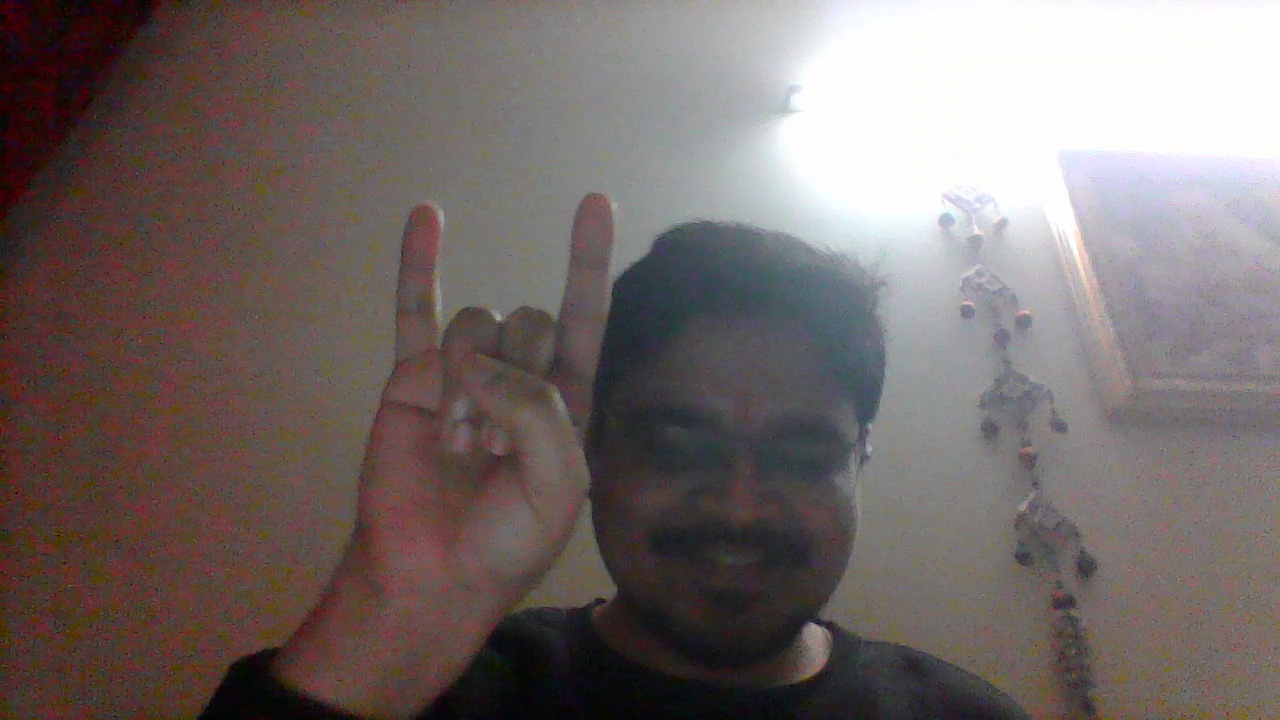ILoveYou: (348, 188, 616, 650)
